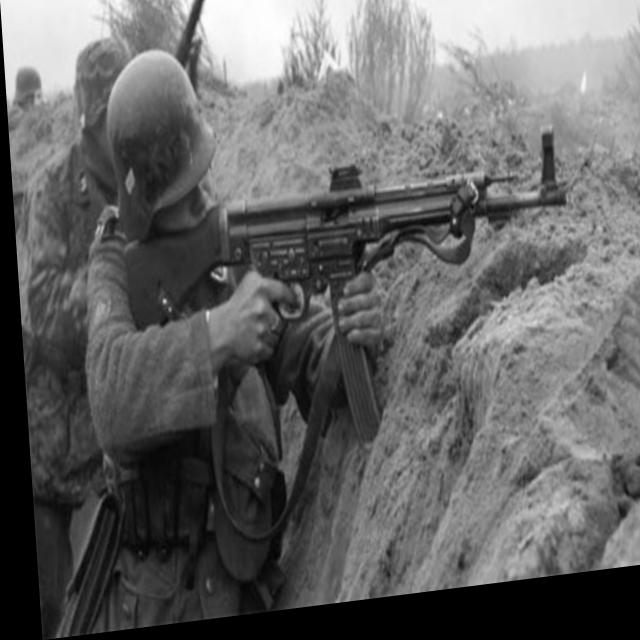other: (76, 39, 319, 632)
